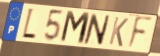5: (42, 8, 66, 44)
F: (125, 15, 154, 52)
K: (107, 16, 130, 49)
L: (20, 7, 37, 42)
M: (58, 10, 92, 47)
N: (82, 13, 111, 48)
